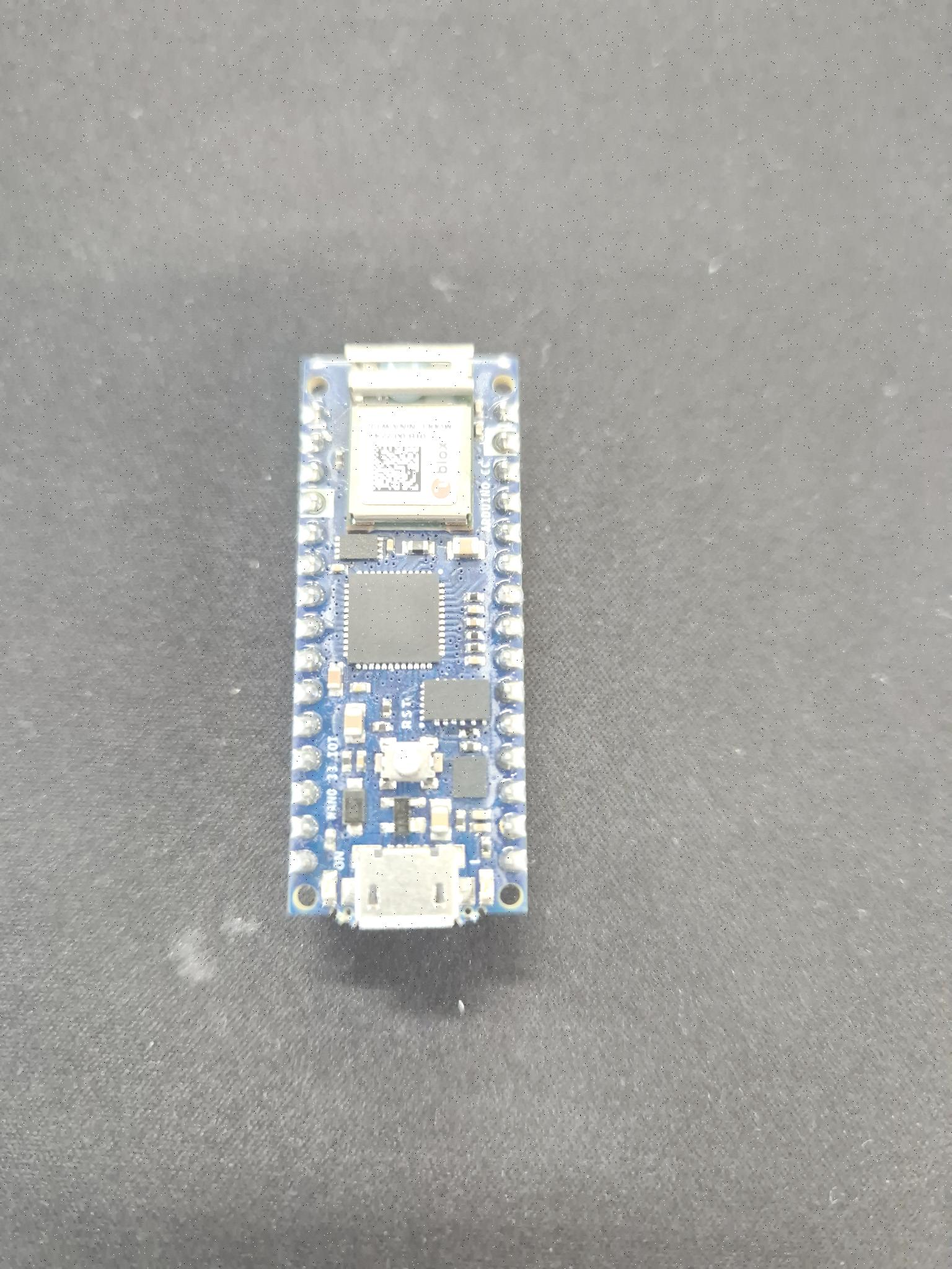arduino-nano-iot-33: (289, 345, 527, 928)
